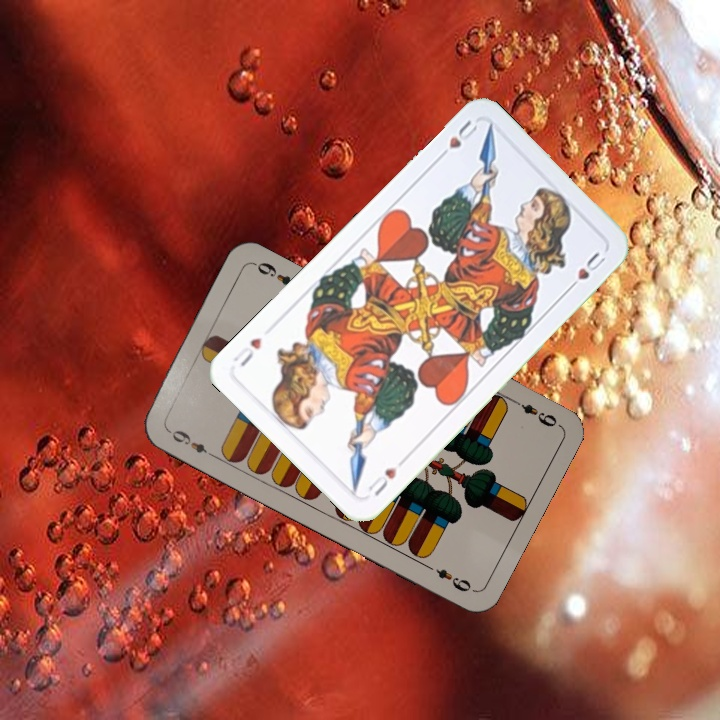E9: (507, 394, 560, 430), (163, 425, 217, 460)
HU: (433, 116, 481, 163), (364, 462, 400, 500)
